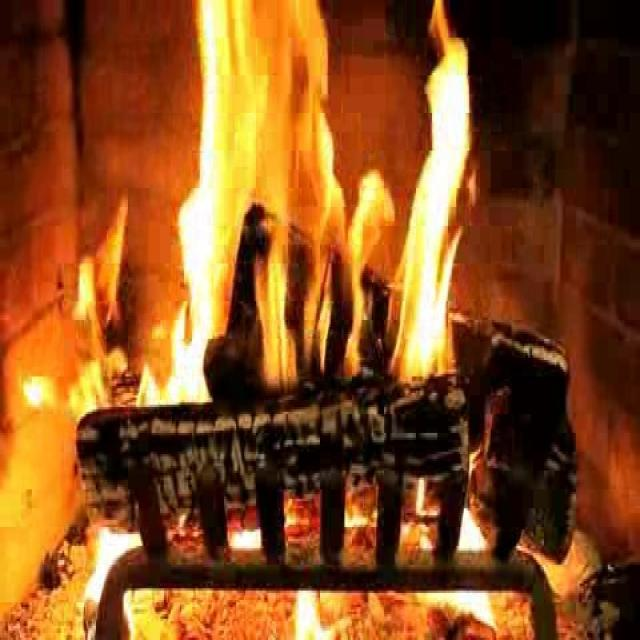Fire: (168, 8, 464, 395)
